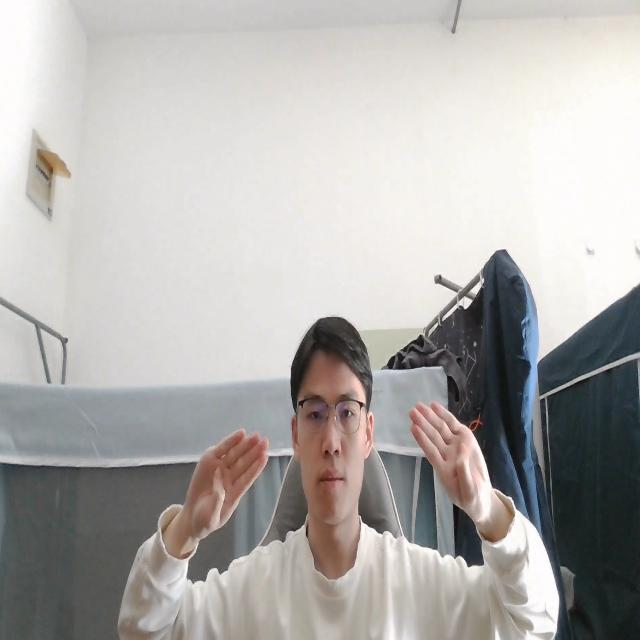four: (404, 397, 494, 527), (181, 423, 271, 541)
